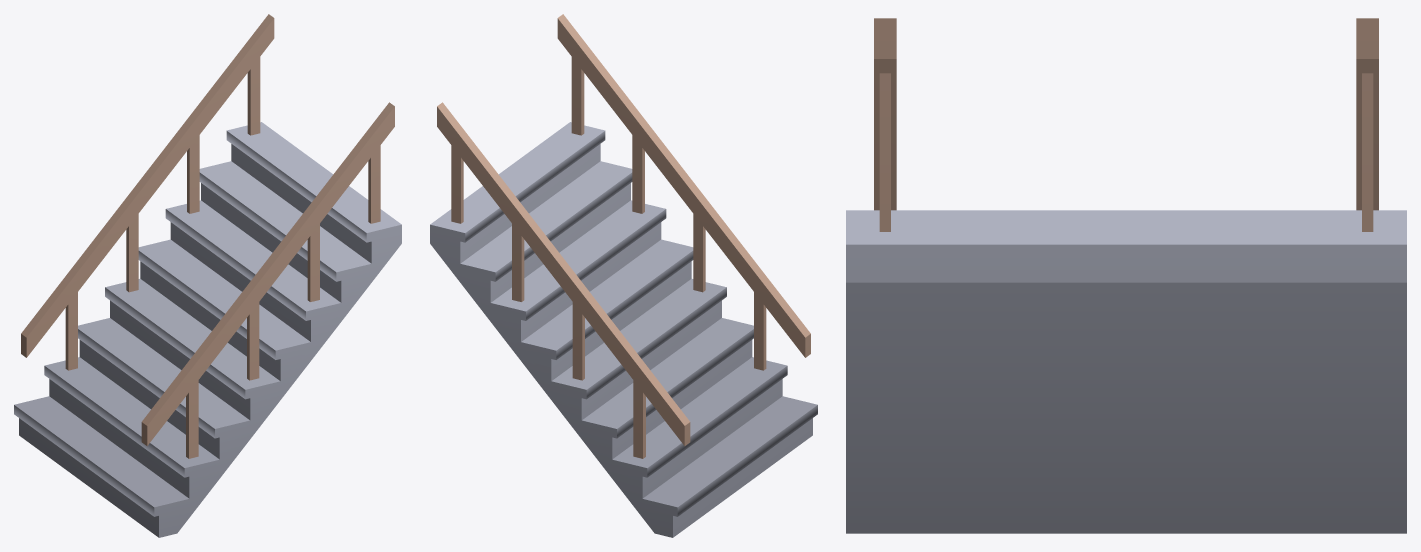
The model's file is stairs-wide-stone-handrail.glb.
The picture shows the model from 3 angles, left to right: view 1: azimuth 30°, elevation 25°; view 2: azimuth 150°, elevation 25°; view 3: azimuth 270°, elevation 25°; orthographic projection. The views are drawn at different scales.
Visible parts, largest first — view 1: stairs-wide-stone-handrail; view 2: stairs-wide-stone-handrail; view 3: stairs-wide-stone-handrail.
Boxes of the visible parts, bbox=[...] form: stairs-wide-stone-handrail: bbox=[14, 14, 401, 537]; stairs-wide-stone-handrail: bbox=[430, 14, 817, 537]; stairs-wide-stone-handrail: bbox=[846, 18, 1406, 533].
Bounding box in the file's own units: 1.02 × 1.45 × 1.
